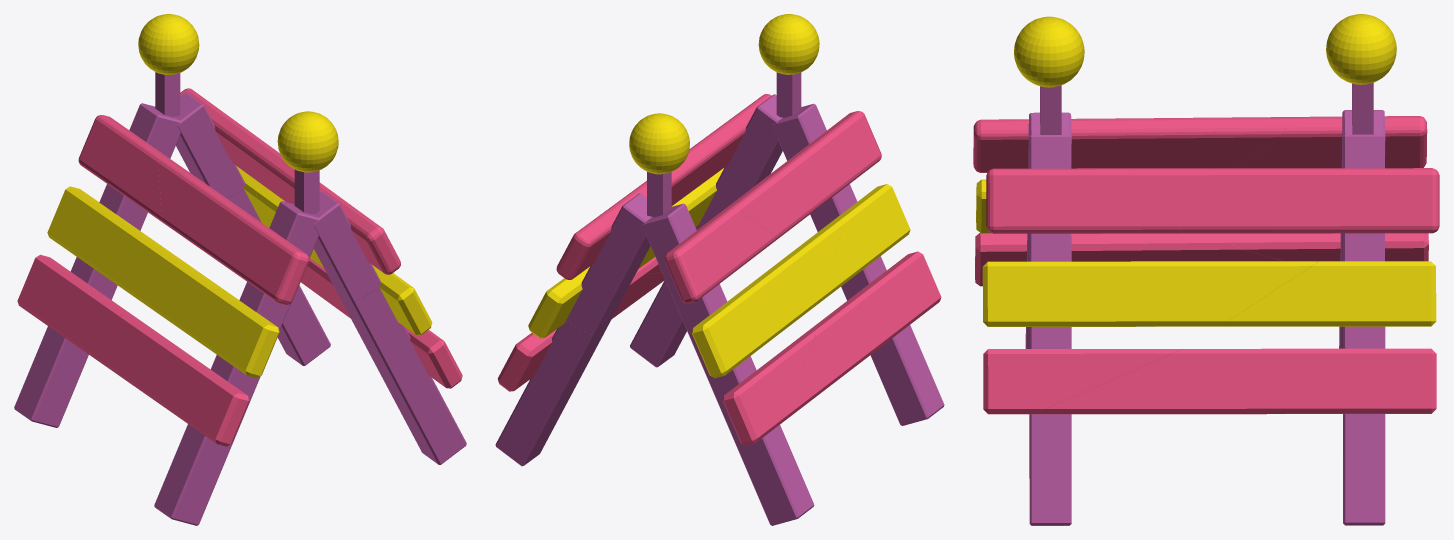
The model's file is RoadBlockDecimate.fbx.
The picture shows the model from 3 angles, left to right: view 1: azimuth 30°, elevation 25°; view 2: azimuth 150°, elevation 25°; view 3: azimuth 270°, elevation 25°; orthographic projection. The views are drawn at different scales.
Visible parts, largest first — view 1: Cube.027_cell.054, Cube.025_cell.166, Cube.026_cell.059, Cube.022_cell.056, Cube.026_cell.058, Cube.022_cell.054, Cube.022_cell.052, Cube.025_cell.167, Cube.022_cell.057, Cube.027_cell.055, Cube.022_cell.059, Cube.025_cell.168 (+12 smaller); view 2: Cube.026_cell.059, Cube.027_cell.054, Cube.025_cell.166, Cube.022_cell.058, Cube.022_cell.052, Cube.025_cell.167, Cube.022_cell.059, Cube.022_cell.054, Cube.027_cell.055, Cube.026_cell.058, Cube.022_cell.057, Cube.025_cell.168 (+11 smaller); view 3: Cube.027_cell.056, Cube.026_cell.061, Cube.025_cell.168, Cube.025_cell.166, Cube.025_cell.169, Cube.026_cell.060, Cube.027_cell.057, Cube.027_cell.054, Cube.025_cell.167, Cube.022_cell.058, Cube.022_cell.056, Cube.027_cell.055 (+9 smaller).
Part boxes in pixels (bbox=[...]): Cube.027_cell.054: bbox=[40, 315, 249, 446]; Cube.025_cell.166: bbox=[158, 156, 309, 304]; Cube.026_cell.059: bbox=[47, 186, 226, 309]; Cube.022_cell.056: bbox=[351, 288, 466, 464]; Cube.026_cell.058: bbox=[153, 290, 279, 378]; Cube.022_cell.054: bbox=[154, 355, 260, 525]; Cube.022_cell.052: bbox=[14, 257, 117, 427]; Cube.025_cell.167: bbox=[78, 115, 168, 224]; Cube.022_cell.057: bbox=[313, 191, 380, 319]; Cube.027_cell.055: bbox=[17, 254, 136, 319]; Cube.022_cell.059: bbox=[175, 92, 244, 198]; Cube.025_cell.168: bbox=[180, 88, 321, 204]; Cube.026_cell.059: bbox=[691, 219, 842, 378]; Cube.027_cell.054: bbox=[775, 251, 941, 427]; Cube.025_cell.166: bbox=[723, 111, 881, 239]; Cube.022_cell.058: bbox=[495, 294, 624, 466]; Cube.022_cell.052: bbox=[683, 320, 814, 525]; Cube.025_cell.167: bbox=[664, 208, 776, 303]; Cube.022_cell.059: bbox=[566, 193, 651, 334]; Cube.022_cell.054: bbox=[813, 220, 944, 425]; Cube.027_cell.055: bbox=[722, 331, 814, 445]; Cube.026_cell.058: bbox=[821, 184, 910, 301]; Cube.022_cell.057: bbox=[700, 94, 782, 224]; Cube.025_cell.168: bbox=[556, 136, 720, 279]; Cube.027_cell.056: bbox=[1034, 348, 1436, 414]; Cube.026_cell.061: bbox=[982, 261, 1318, 326]; Cube.025_cell.168: bbox=[1127, 168, 1439, 233]; Cube.025_cell.166: bbox=[973, 117, 1286, 172]; Cube.025_cell.169: bbox=[986, 168, 1183, 233]; Cube.026_cell.060: bbox=[1220, 261, 1436, 326]; Cube.027_cell.057: bbox=[983, 349, 1181, 414]; Cube.027_cell.054: bbox=[975, 232, 1284, 286]; Cube.025_cell.167: bbox=[1238, 116, 1427, 168]; Cube.022_cell.058: bbox=[1343, 326, 1385, 525]; Cube.022_cell.056: bbox=[1029, 327, 1071, 525]; Cube.027_cell.055: bbox=[1229, 233, 1428, 261].
Bounding box in the file's own units: 4.43 × 5.25 × 5.09.
